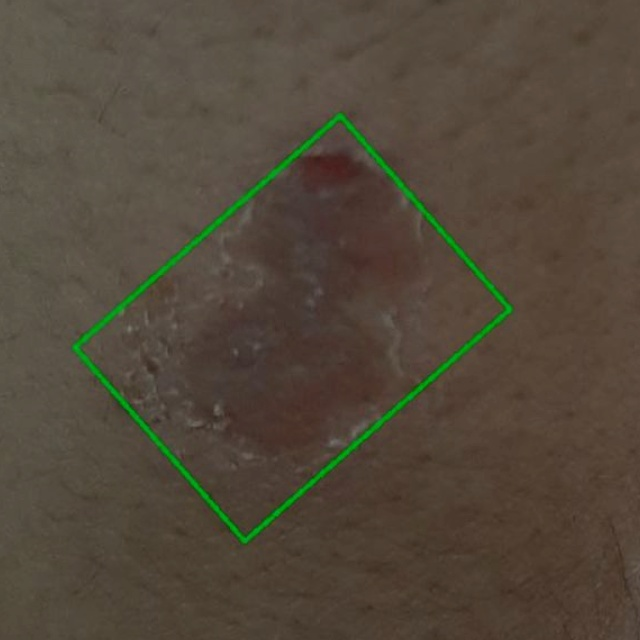Tinea Corporis: (75, 115, 510, 542)
